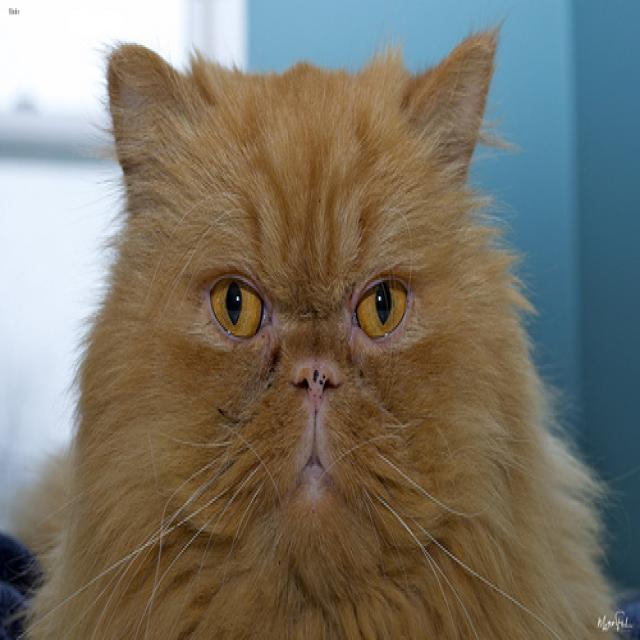Persian: (106, 31, 493, 560)
